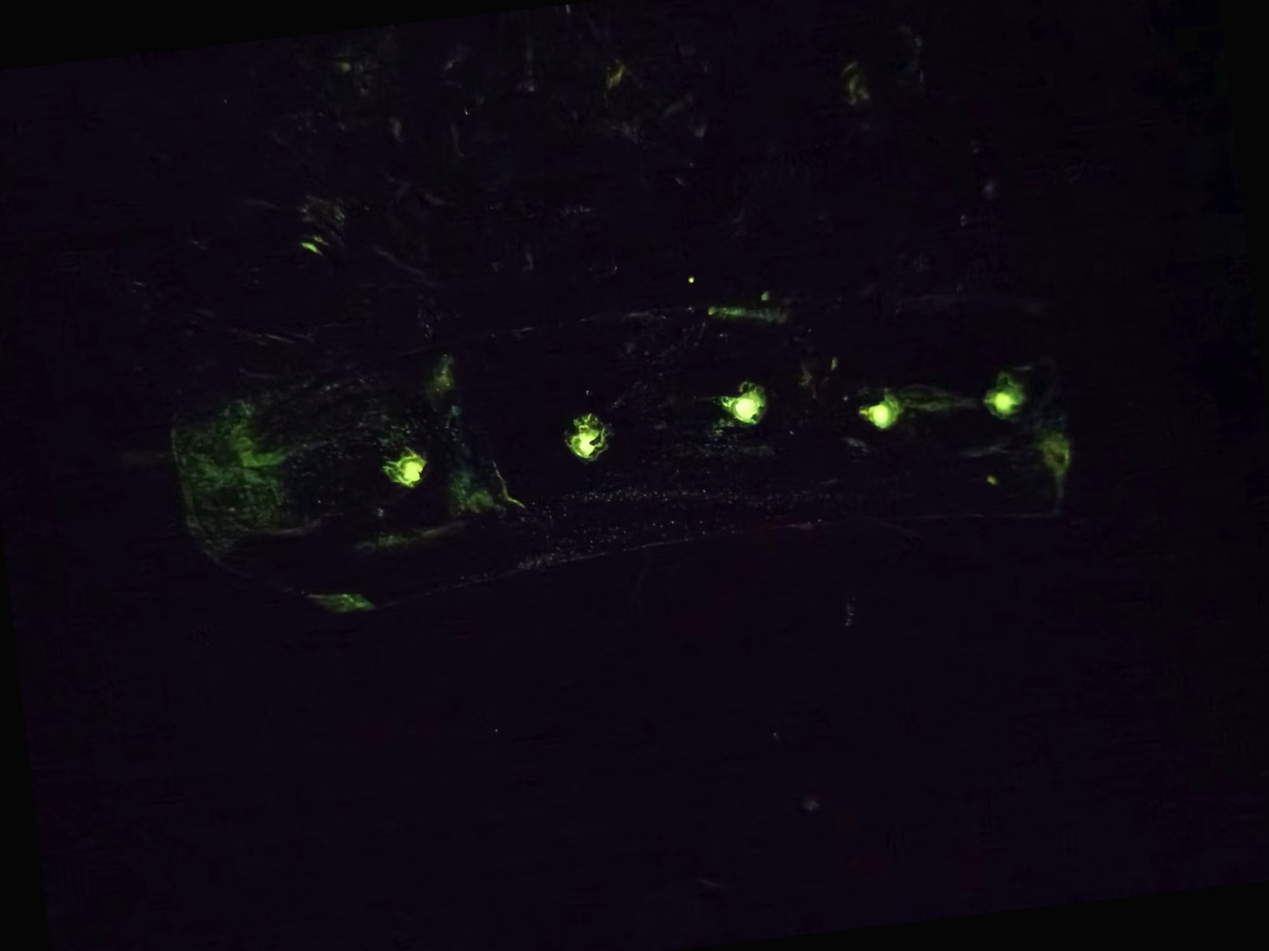Crater: (932, 345, 1051, 431), (538, 394, 645, 479), (701, 367, 798, 450), (840, 368, 926, 461), (369, 435, 450, 507)
